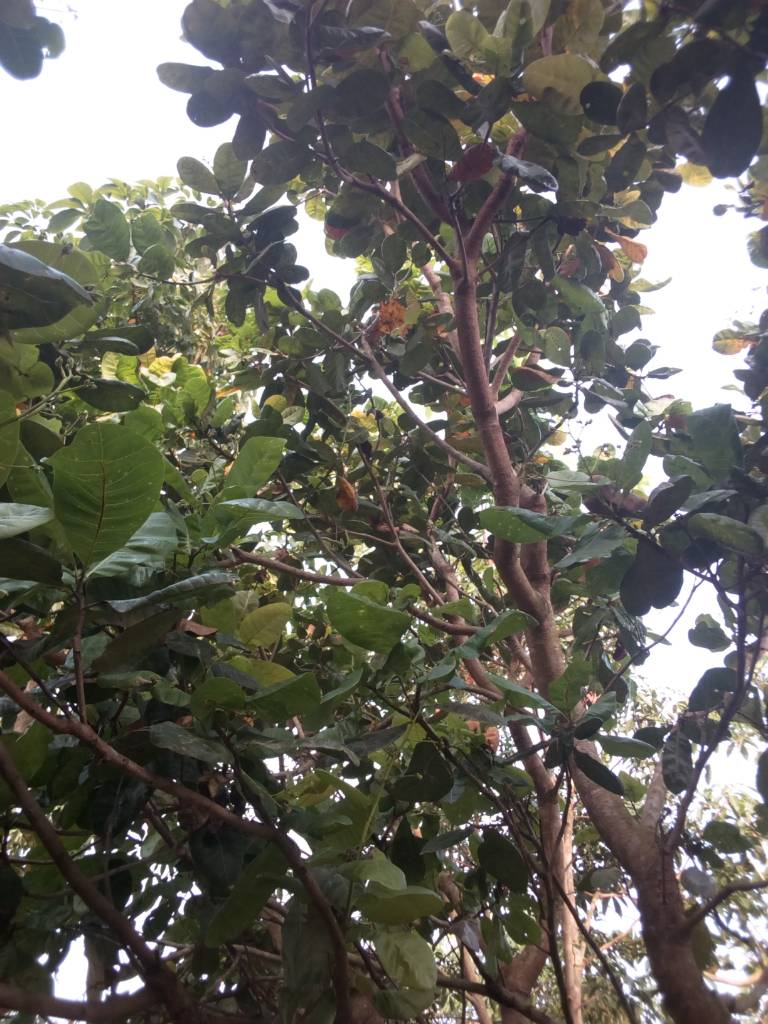Alternariose: (374, 297, 410, 333)
